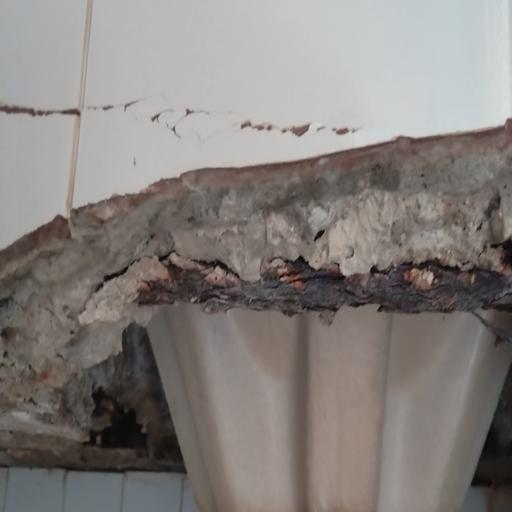spalling: (0, 122, 512, 443)
